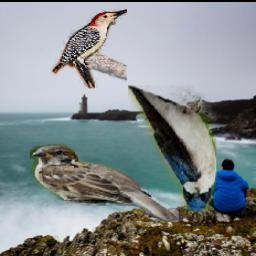Sparrow: (31, 144, 180, 222)
Swallow: (128, 85, 216, 212)
Woodpecker: (52, 10, 128, 89)
